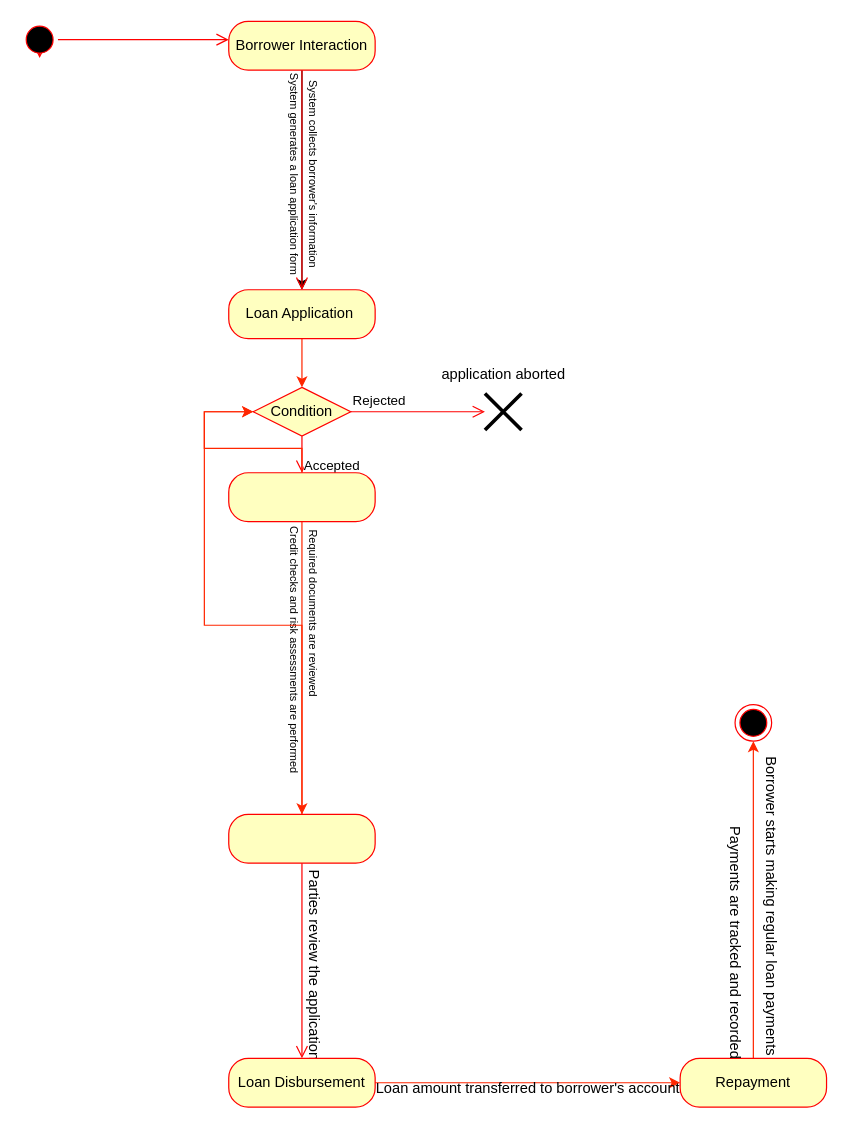
The diagram is 848 pixels wide and 1129 high, and some of its shapes have lost their labels. Here are the shapes that lost their labels. From the top down, the centre of each, then its label:
At [301,497]: "Loan Processing".
At [301,838]: "Loan Approval".
